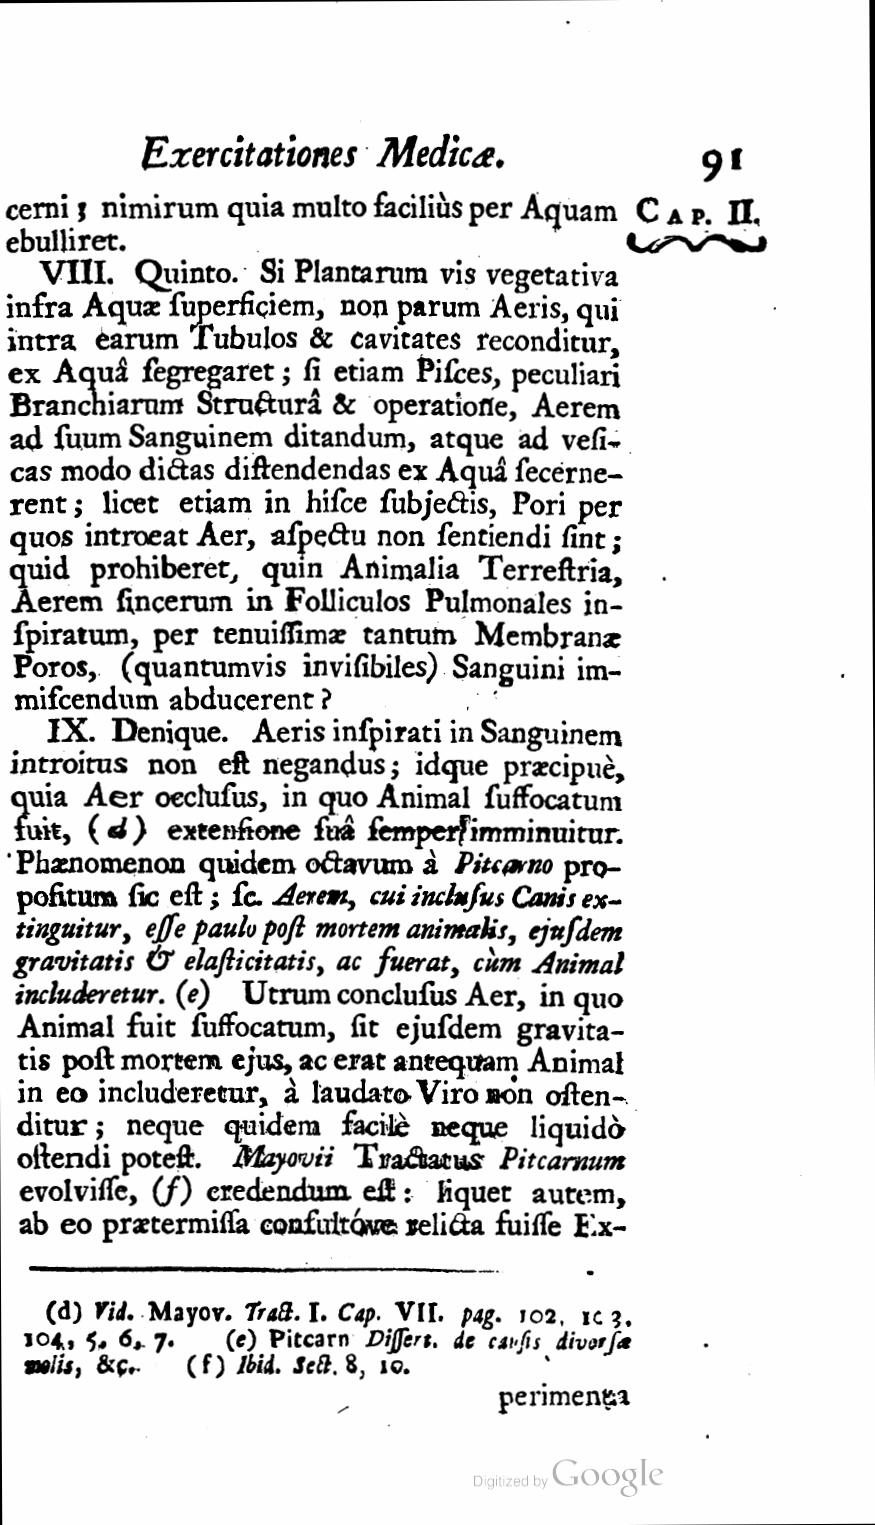bottom_p: (6, 196, 622, 258)
catchword: (486, 1384, 636, 1420)
footnotes: (16, 1286, 638, 1382)
full_p: (8, 260, 624, 716)
header: (128, 121, 506, 182)
page_num: (698, 142, 752, 187)
print_marg: (628, 192, 774, 266)
top_p: (8, 714, 630, 1248)
